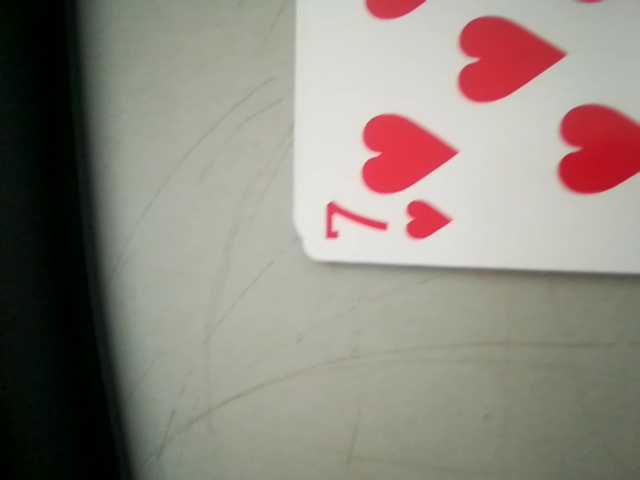hx 7: (311, 193, 459, 259)
